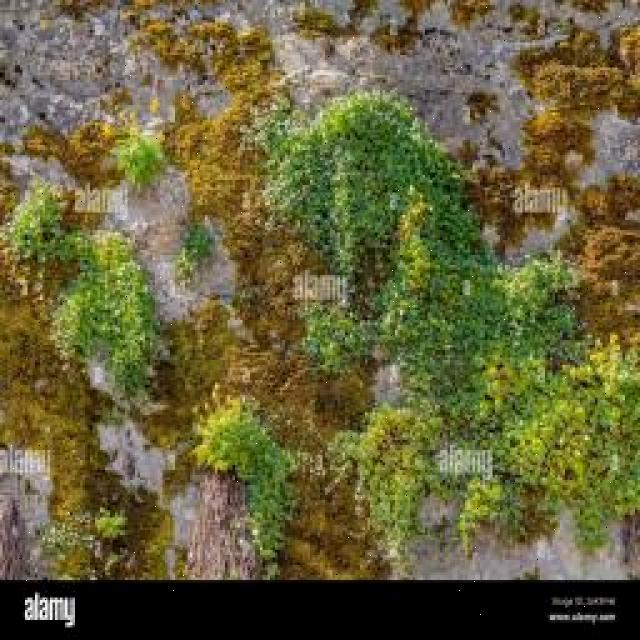vegetation: (1, 87, 638, 541)
